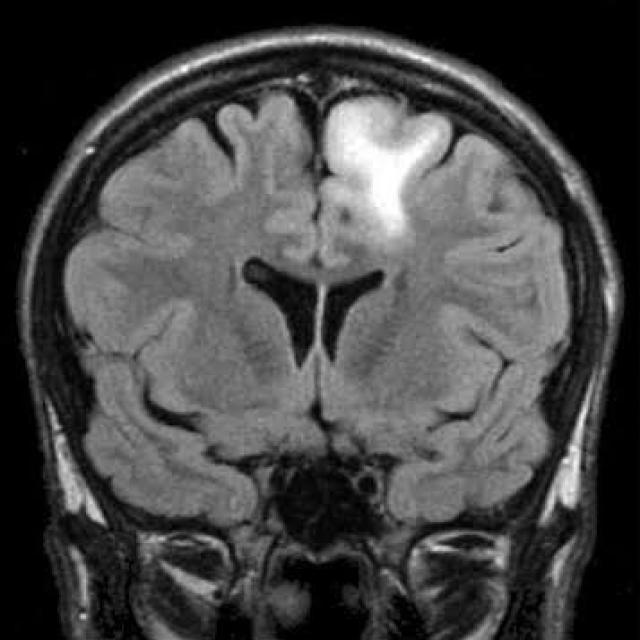glioma: (242, 256, 388, 374)
